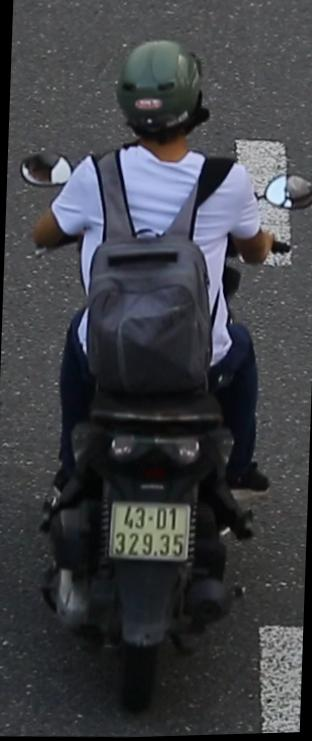LP: (100, 489, 198, 574)
helmet: (109, 27, 218, 158)
